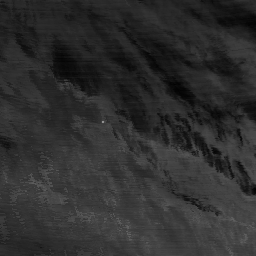Target: (100, 119, 105, 126)
